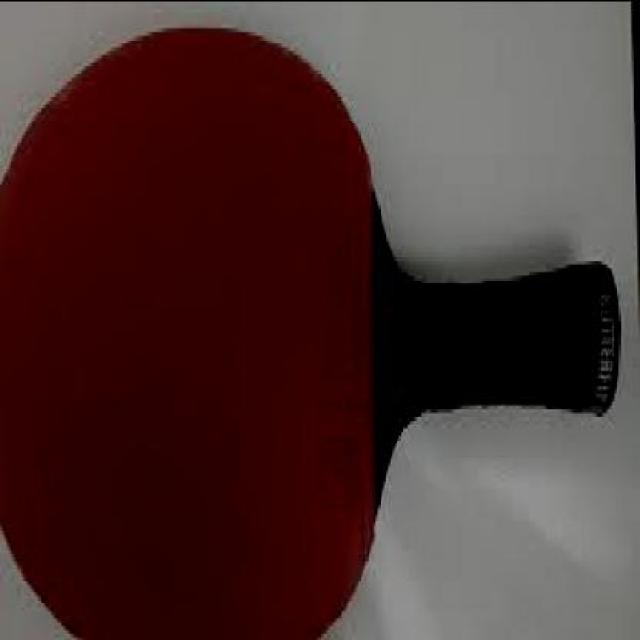table_tennis_racket: (0, 11, 408, 638)
